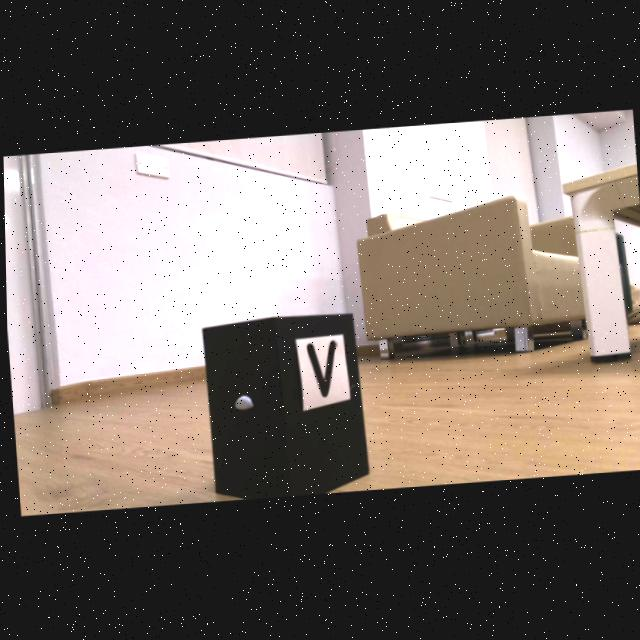V: (306, 342, 335, 399)
